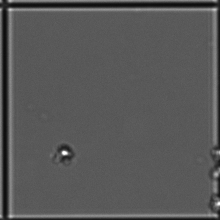Living Cell: (54, 143, 76, 166)
